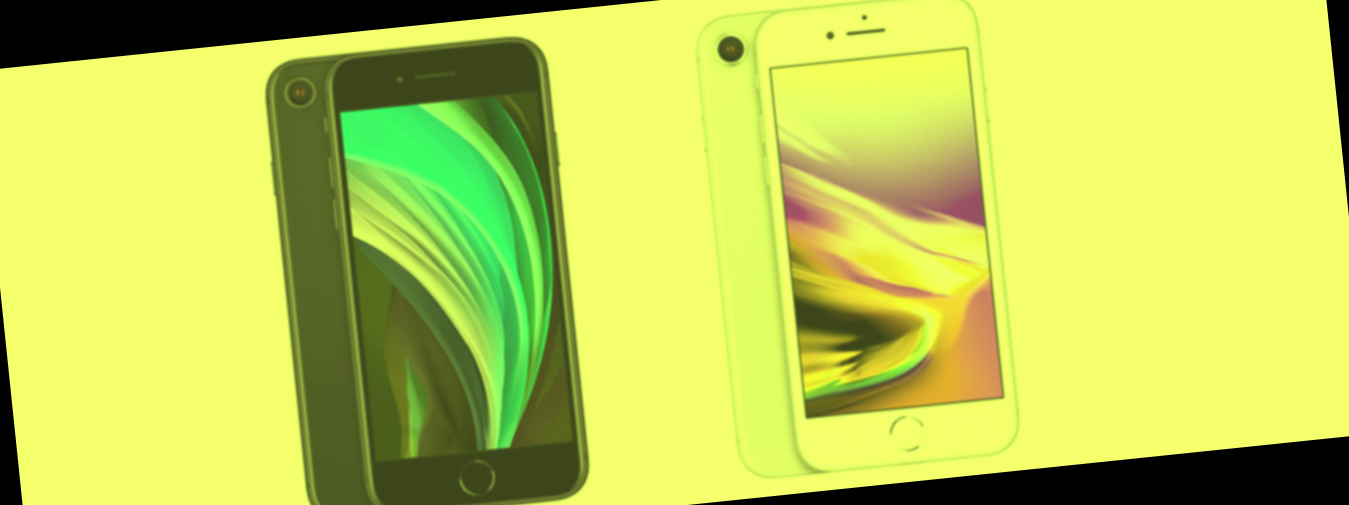iphone: (773, 24, 1003, 486), (340, 22, 568, 487)
